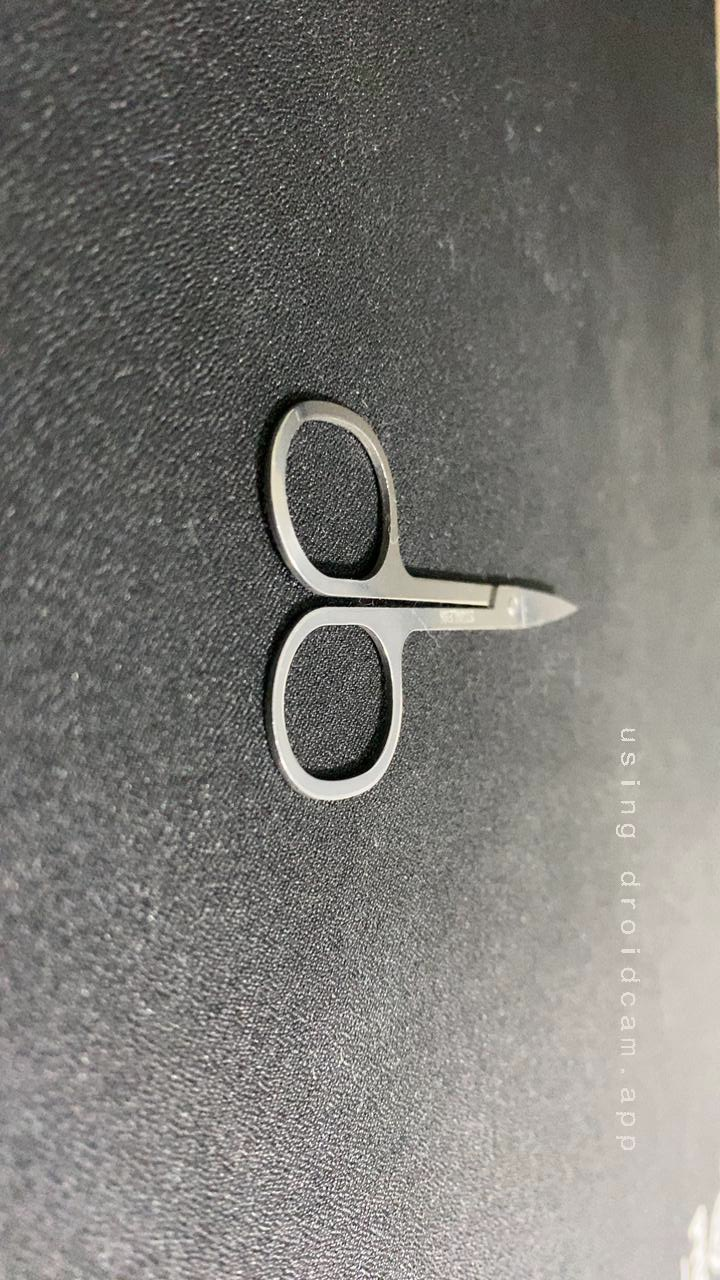scissor: (164, 379, 472, 820)
